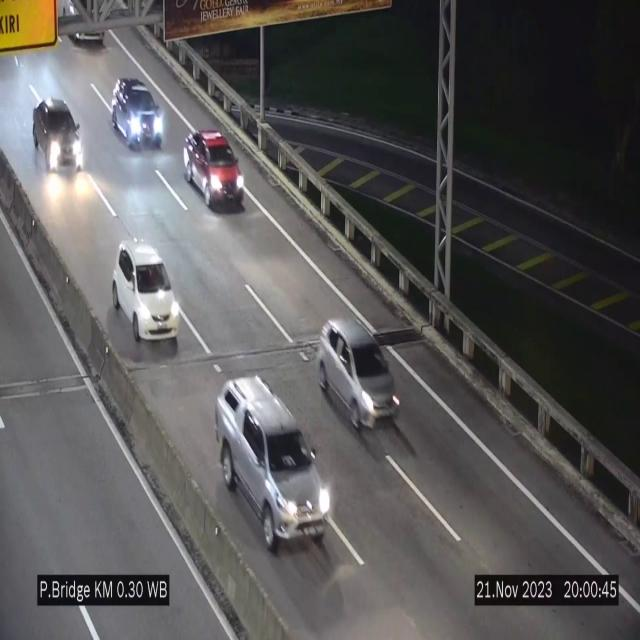Car: (215, 377, 331, 550), (317, 319, 401, 430), (112, 240, 180, 344), (183, 130, 244, 210), (28, 100, 86, 176), (112, 78, 166, 146)
